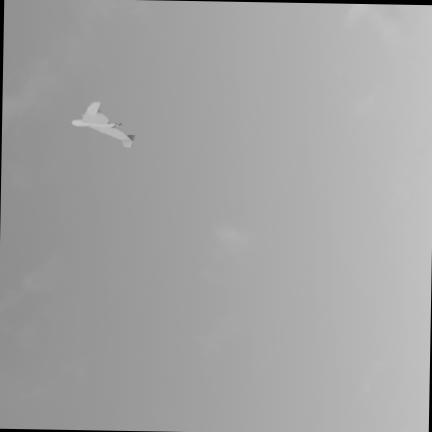Shahed: (72, 101, 134, 146)
